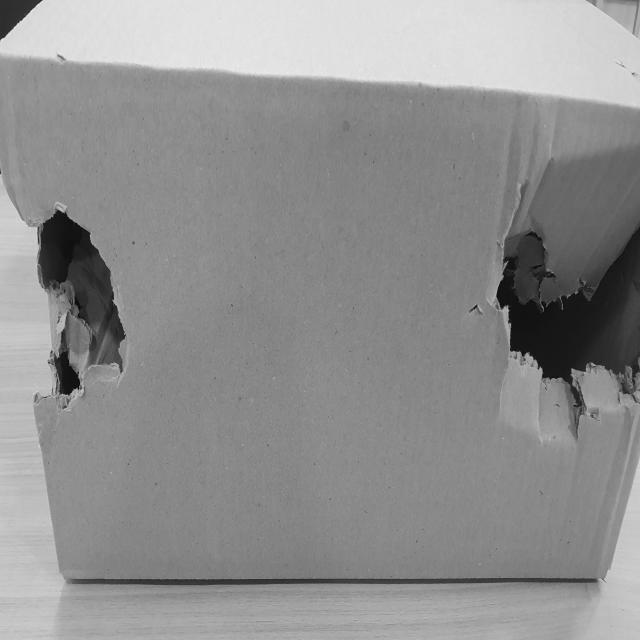hole: (490, 131, 640, 446), (10, 188, 128, 424)
